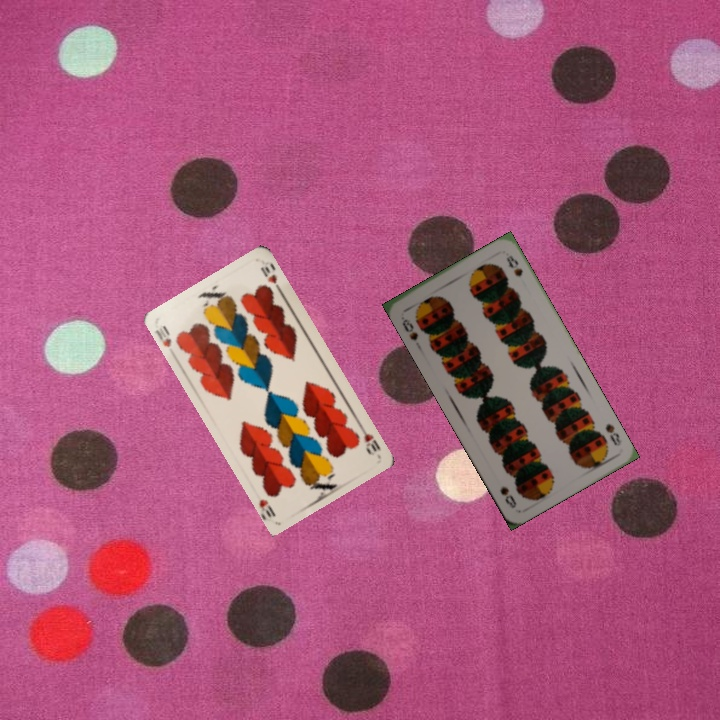H10: (355, 420, 383, 458), (151, 321, 174, 350)
S8: (397, 312, 421, 343), (601, 419, 624, 448)
